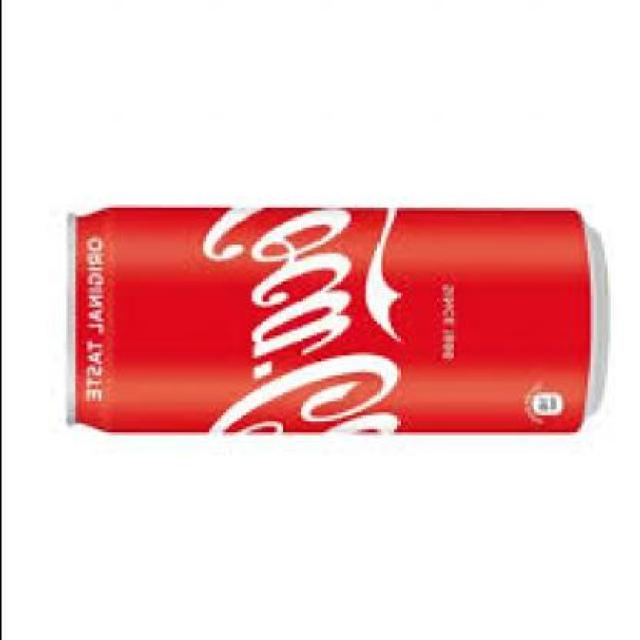METAL: (60, 202, 603, 429)
